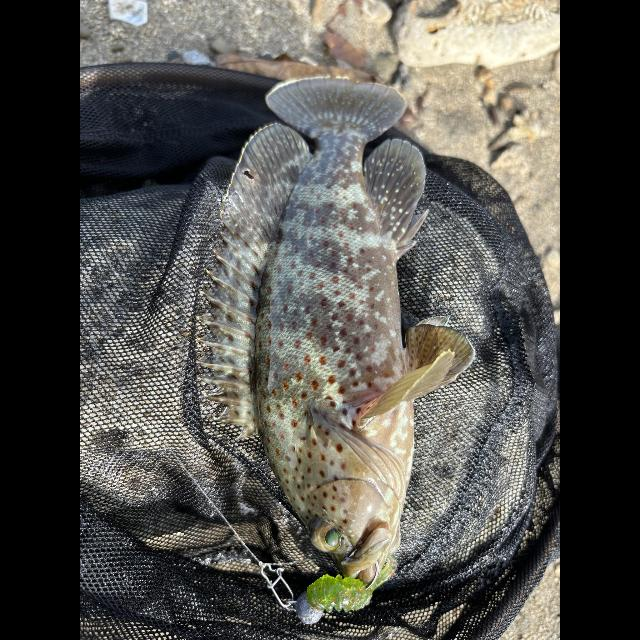Groupers: (193, 75, 473, 595)
